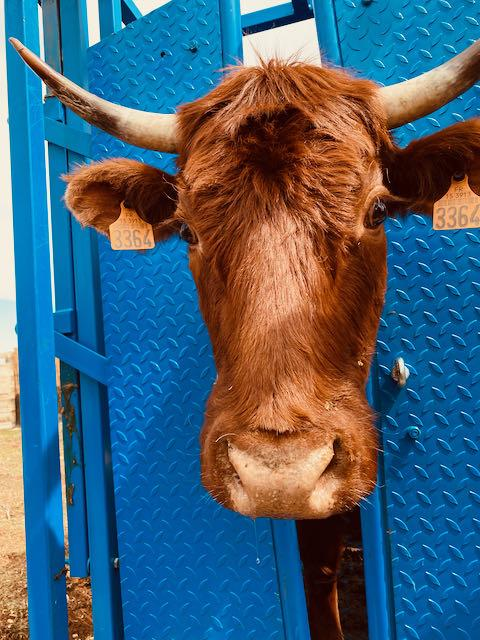muzzles: (192, 432, 388, 527)
